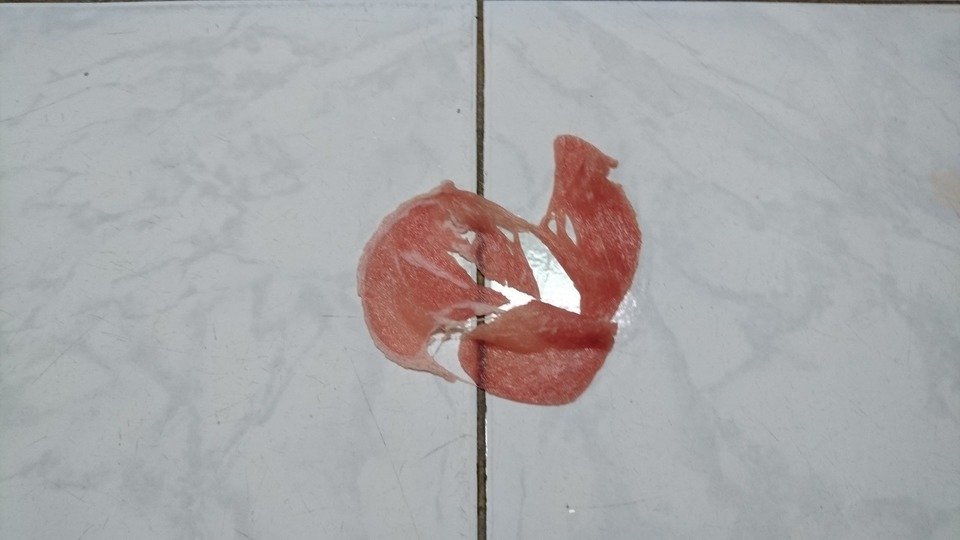restructured meat: (362, 133, 652, 409)
